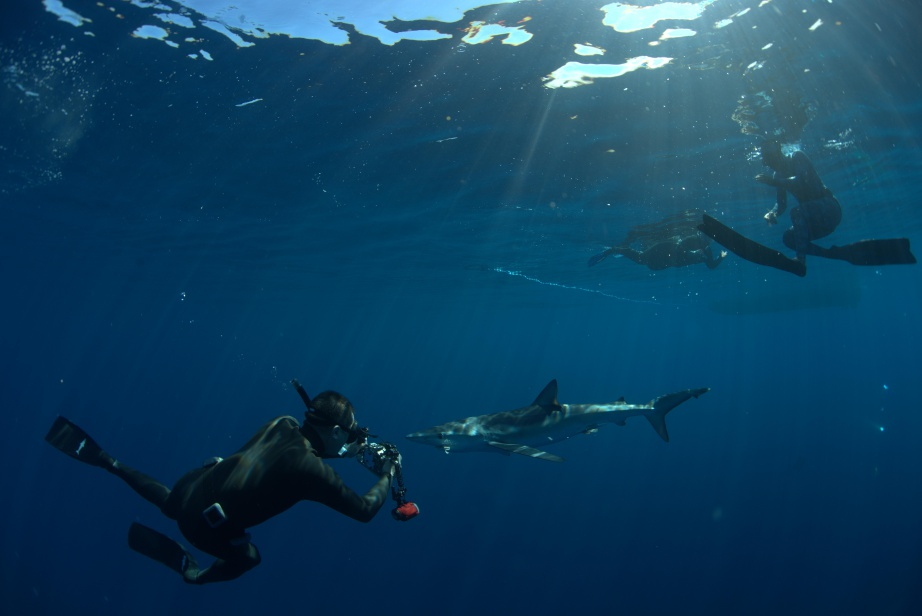Azul: (394, 359, 727, 486)
